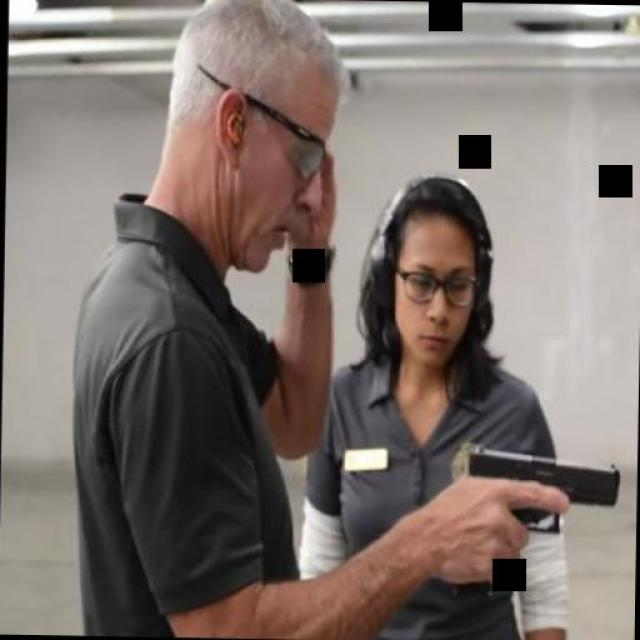gun: (449, 438, 621, 598)
